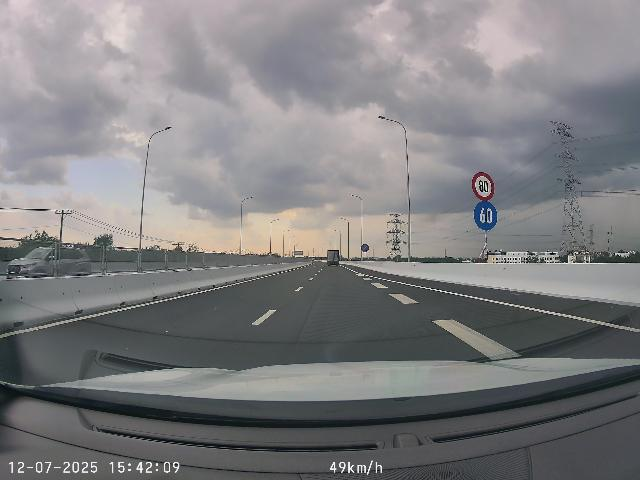127-toc-do-toi-da-80: (471, 172, 495, 201)
306-toc-do-toi-thieu-60: (474, 201, 498, 231)
